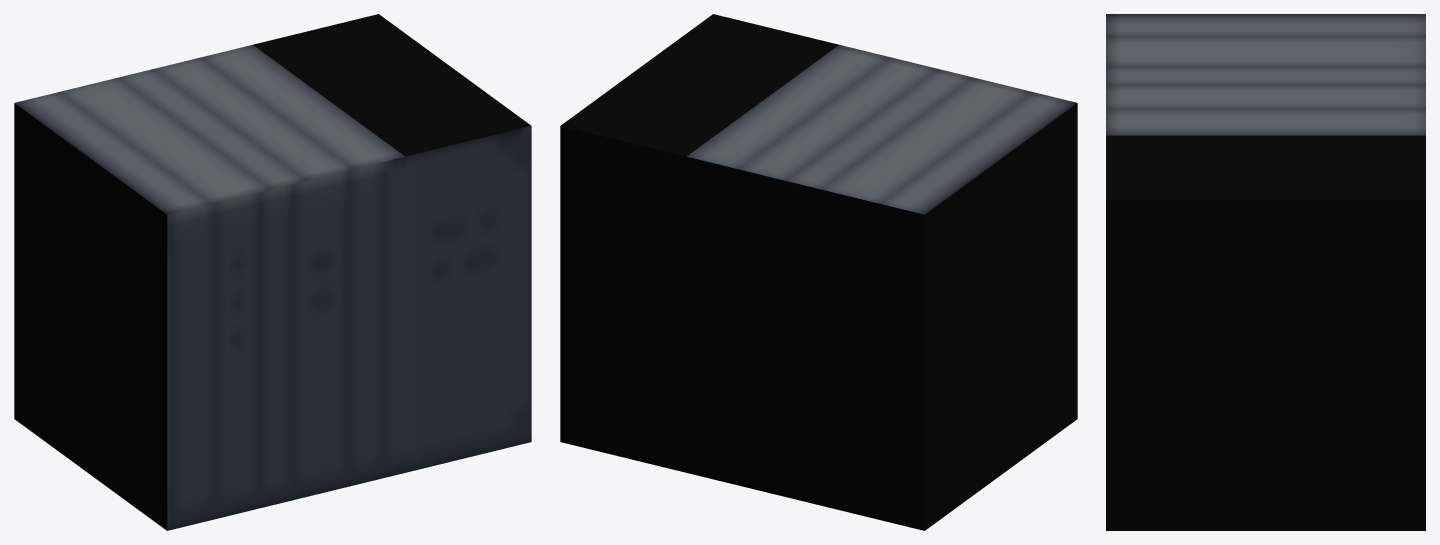
Rendered from Books.fbx.
3 views of the same model, side by side, from view 1: azimuth 30°, elevation 25°; view 2: azimuth 150°, elevation 25°; view 3: azimuth 270°, elevation 25° (orthographic). The views are drawn at different scales.
Parts seen in each view (by area): view 1: Books; view 2: Books; view 3: Books.
Part boxes in pixels (box(x1,y1,x2,y2)): Books: box(14, 14, 531, 530); Books: box(560, 14, 1077, 530); Books: box(1106, 14, 1425, 530).
Bounding box in the file's own units: 0.4 × 0.3317 × 0.2906.
